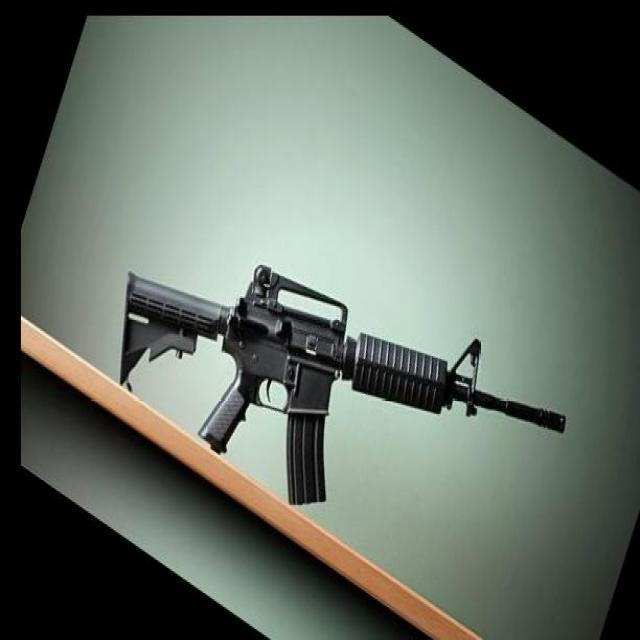weapon: (119, 262, 566, 508)
